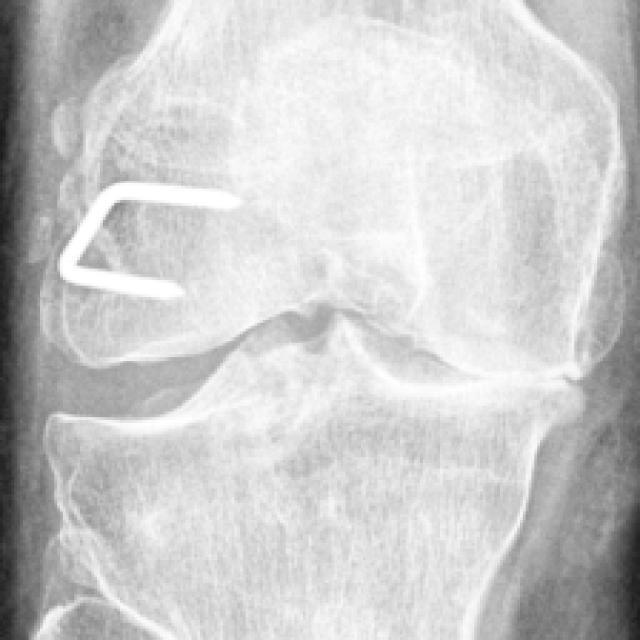femur: (39, 0, 629, 381)
tibia: (42, 312, 590, 640)
